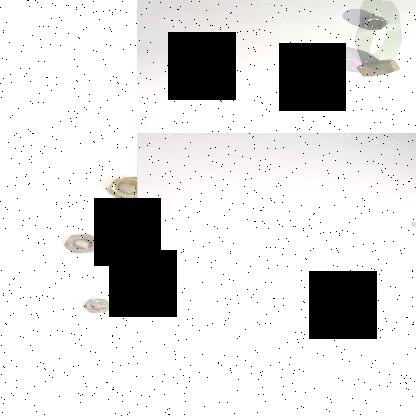NUTS: (49, 222, 119, 258), (344, 54, 412, 80), (66, 292, 126, 318), (90, 172, 137, 203), (357, 6, 392, 36)
